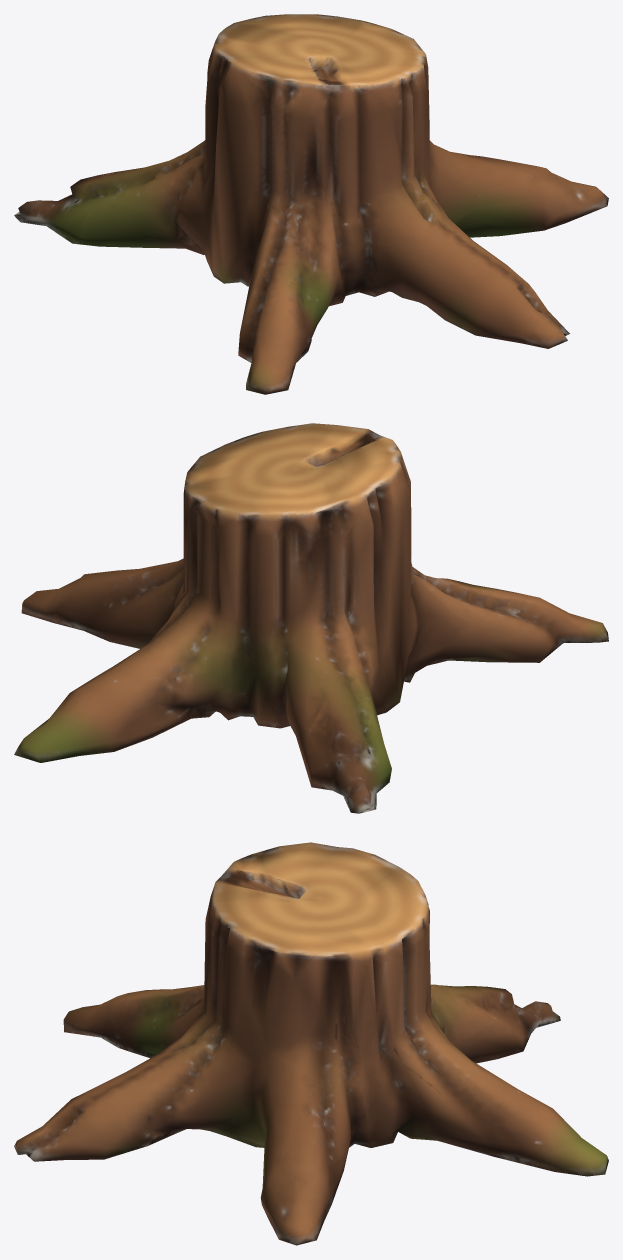
File: tree_stump.glb
The picture shows the model from 3 angles, top to bottom: view 1: azimuth 30°, elevation 25°; view 2: azimuth 150°, elevation 25°; view 3: azimuth 270°, elevation 25°; orthographic projection. The views are drawn at different scales.
Visible parts, largest first — view 1: tree_stump; view 2: tree_stump; view 3: tree_stump.
Boxes of the visible parts, x1,y1,x2,y2 form: tree_stump: [14, 14, 608, 394]; tree_stump: [14, 423, 608, 813]; tree_stump: [14, 842, 608, 1245].
Size of the model in its own units: 1.53 by 0.6892 by 1.67.
Materials: 1 (1 with a texture image).
